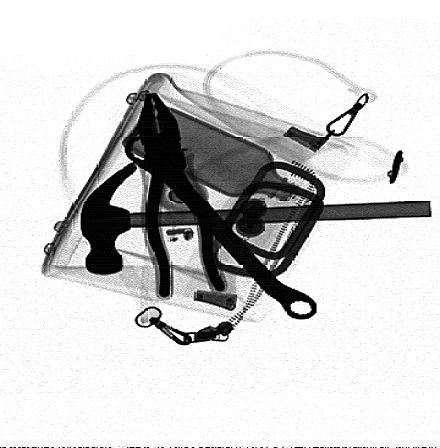Hammer: (80, 160, 435, 275)
Pliers: (139, 93, 232, 301)
Wrench: (123, 132, 319, 321)
